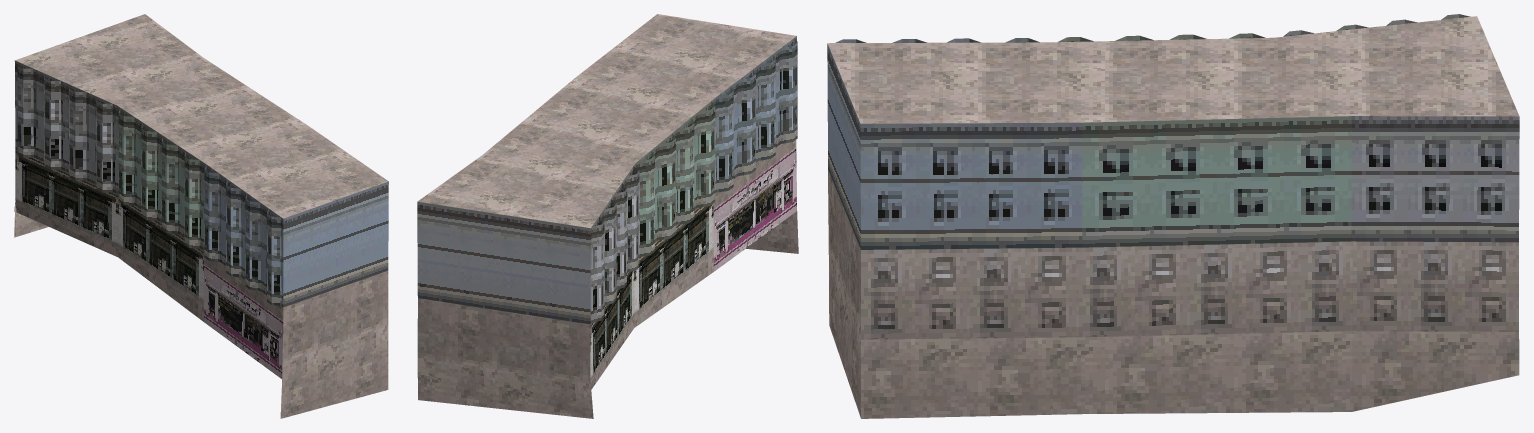
File: lodens_02_sfs.obj
The picture shows the model from 3 angles, left to right: view 1: azimuth 30°, elevation 25°; view 2: azimuth 150°, elevation 25°; view 3: azimuth 270°, elevation 25°; orthographic projection. The views are drawn at different scales.
Parts seen in each view (by area): view 1: LODens_02_SFS; view 2: LODens_02_SFS; view 3: LODens_02_SFS.
Part boxes in pixels (x1,y1,x2,y2): LODens_02_SFS: (14, 14, 388, 418); LODens_02_SFS: (417, 14, 798, 418); LODens_02_SFS: (827, 14, 1519, 418).
Bounding box in the file's own units: 20.36 × 25.5 × 53.89.
12 materials, 12 textured.
